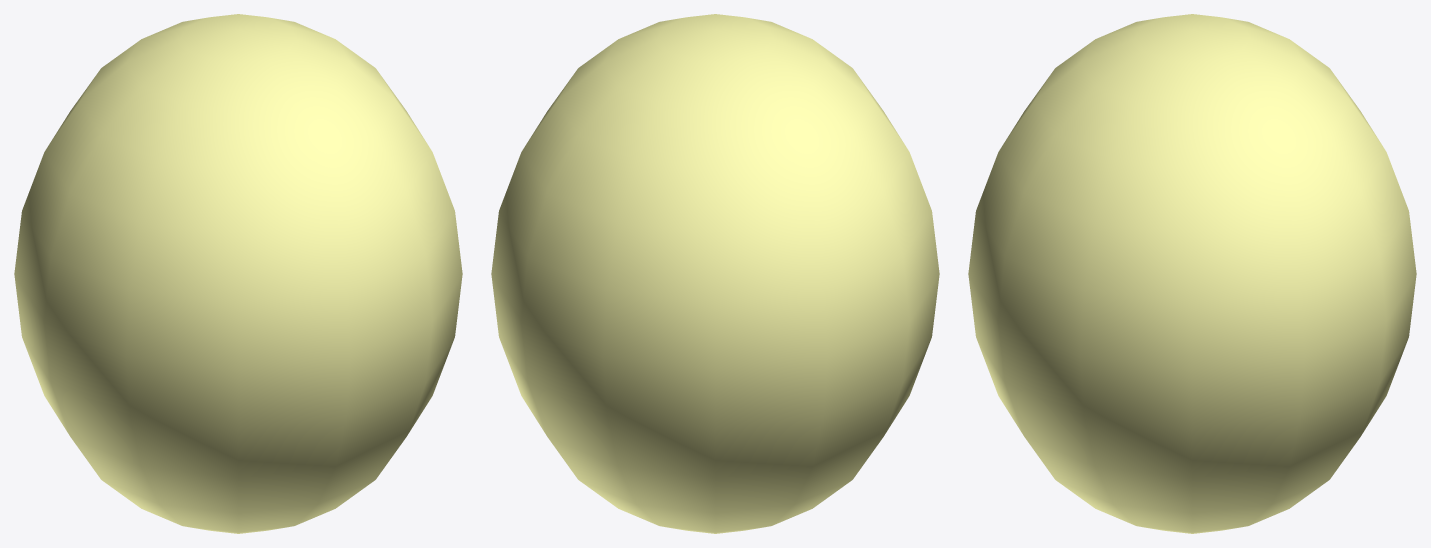
Rendered from Lumifae_stage2.obj.
The picture shows the model from 3 angles, left to right: view 1: azimuth 30°, elevation 25°; view 2: azimuth 150°, elevation 25°; view 3: azimuth 270°, elevation 25°; orthographic projection.
Bounding box in the file's own units: 2 × 2.4 × 2.
